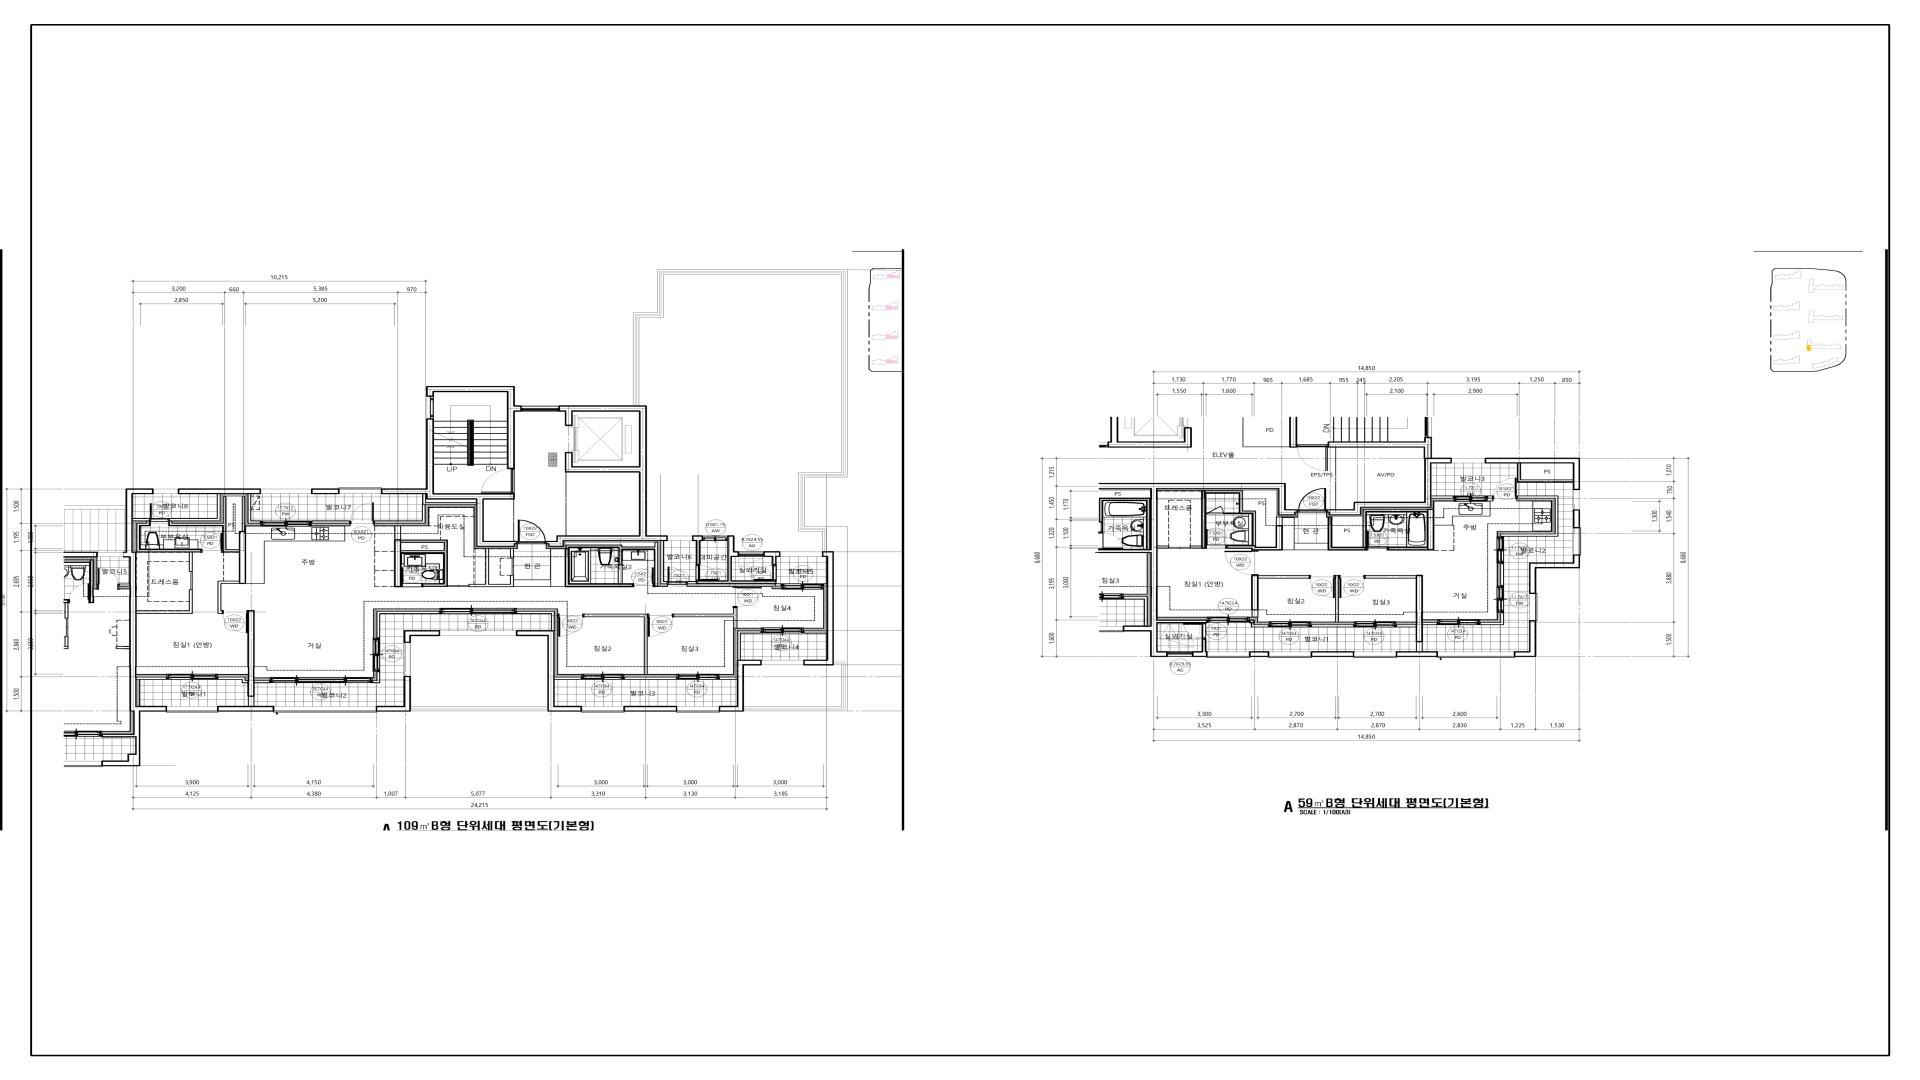door: (1224, 551, 1259, 575), (480, 469, 515, 493), (1297, 445, 1328, 471), (517, 519, 546, 544), (1298, 488, 1326, 513), (558, 613, 584, 637), (733, 587, 762, 608), (1309, 575, 1335, 598), (1339, 575, 1365, 598), (222, 610, 248, 633), (648, 614, 674, 637), (1493, 477, 1517, 499), (350, 502, 374, 524), (1367, 530, 1388, 551), (1206, 529, 1227, 549), (633, 567, 654, 587), (402, 567, 423, 587), (201, 533, 222, 553), (667, 566, 687, 585), (754, 564, 777, 580), (150, 503, 169, 522), (696, 565, 719, 580), (1207, 505, 1239, 514), (1169, 547, 1190, 549), (448, 585, 469, 587), (191, 572, 193, 590), (512, 558, 514, 575)
wall: (1150, 483, 1298, 657), (382, 418, 518, 547), (546, 405, 668, 547), (1326, 437, 1454, 515), (125, 488, 167, 712), (169, 494, 246, 614), (426, 386, 521, 469), (1190, 491, 1283, 551), (516, 630, 582, 712), (218, 610, 270, 706), (687, 535, 777, 584), (565, 542, 658, 587), (1328, 509, 1427, 551), (584, 614, 648, 675), (133, 518, 201, 572), (1396, 575, 1438, 657), (804, 551, 834, 665), (394, 525, 448, 587), (374, 494, 476, 524), (1485, 458, 1580, 490), (1107, 417, 1192, 448), (1251, 575, 1309, 617), (1501, 496, 1558, 537), (719, 660, 762, 712), (1529, 555, 1580, 594), (469, 548, 514, 587), (376, 611, 439, 638), (137, 589, 193, 614), (1243, 417, 1289, 447), (674, 608, 738, 629), (376, 676, 411, 712), (1517, 463, 1573, 483), (1514, 620, 1537, 657), (517, 611, 555, 630), (737, 630, 761, 660), (178, 488, 261, 494), (403, 630, 440, 643), (247, 494, 260, 524), (401, 542, 444, 550), (217, 706, 274, 712), (692, 535, 703, 565), (624, 706, 677, 712), (660, 541, 667, 584), (1427, 509, 1434, 551), (1480, 613, 1504, 625), (1192, 640, 1208, 657), (1311, 651, 1354, 657), (1289, 417, 1297, 448), (764, 551, 780, 564), (1366, 575, 1416, 579), (1335, 575, 1339, 623), (311, 488, 339, 494), (624, 677, 677, 680), (1388, 547, 1427, 551), (312, 520, 350, 524), (1250, 620, 1269, 627), (1311, 625, 1355, 628), (1573, 510, 1580, 528), (1249, 651, 1269, 657), (804, 630, 826, 634), (372, 672, 380, 683), (137, 677, 166, 680), (555, 677, 581, 680), (1501, 563, 1504, 586), (1396, 625, 1416, 628), (719, 677, 737, 680), (1423, 622, 1438, 625), (510, 548, 514, 558), (1158, 546, 1169, 549), (1488, 496, 1493, 501), (775, 583, 781, 587), (823, 583, 826, 586)
window: (270, 677, 373, 683), (274, 706, 376, 712), (439, 608, 517, 614), (1438, 652, 1514, 658), (440, 630, 516, 636), (261, 520, 311, 527), (261, 488, 312, 494), (167, 706, 217, 712), (167, 674, 217, 680), (1269, 621, 1311, 628), (372, 638, 380, 672), (521, 405, 559, 412), (403, 643, 411, 676), (581, 706, 624, 712), (339, 488, 382, 494), (1207, 617, 1249, 623), (1269, 652, 1311, 658), (1354, 652, 1396, 658), (1354, 621, 1396, 627), (1438, 619, 1480, 625), (780, 551, 822, 557), (762, 660, 804, 666), (677, 706, 719, 712), (582, 674, 624, 680), (677, 674, 719, 680), (1208, 652, 1249, 658), (761, 628, 804, 633), (781, 584, 823, 589), (1496, 537, 1504, 563), (1573, 528, 1581, 554), (1454, 496, 1488, 502), (1497, 586, 1504, 613), (1530, 594, 1537, 620), (426, 397, 434, 418), (1452, 458, 1485, 463), (153, 488, 178, 494), (703, 535, 728, 541), (739, 551, 764, 557), (668, 535, 692, 541), (1168, 652, 1192, 657), (1573, 490, 1579, 510)
